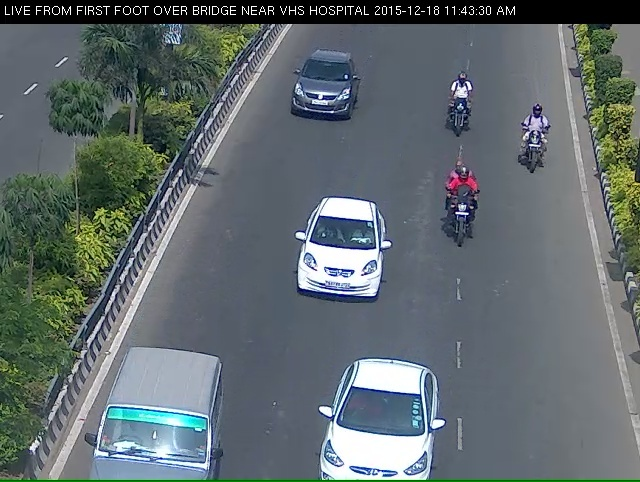Car: (71, 374, 218, 481), (307, 372, 447, 480), (281, 206, 392, 332), (280, 49, 366, 134)
Person: (439, 173, 489, 264), (512, 112, 557, 196), (446, 80, 476, 151)
